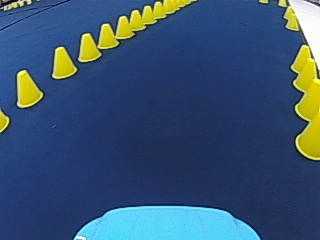cone: (294, 111, 319, 159), (293, 77, 320, 120), (14, 68, 43, 106), (50, 45, 77, 78), (293, 58, 318, 91), (77, 32, 101, 61), (289, 44, 311, 73), (97, 22, 117, 48), (114, 15, 132, 38), (127, 9, 144, 30), (284, 9, 298, 29), (140, 5, 154, 24), (151, 1, 164, 19), (0, 110, 10, 131)
